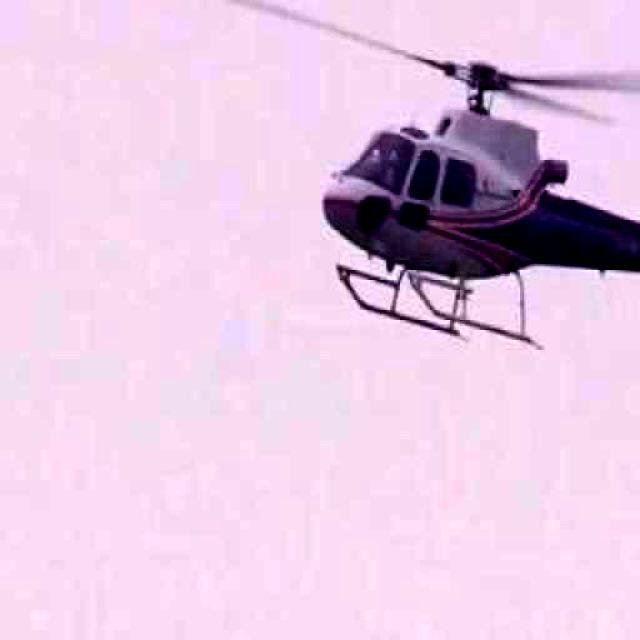drone: (194, 0, 640, 389)
